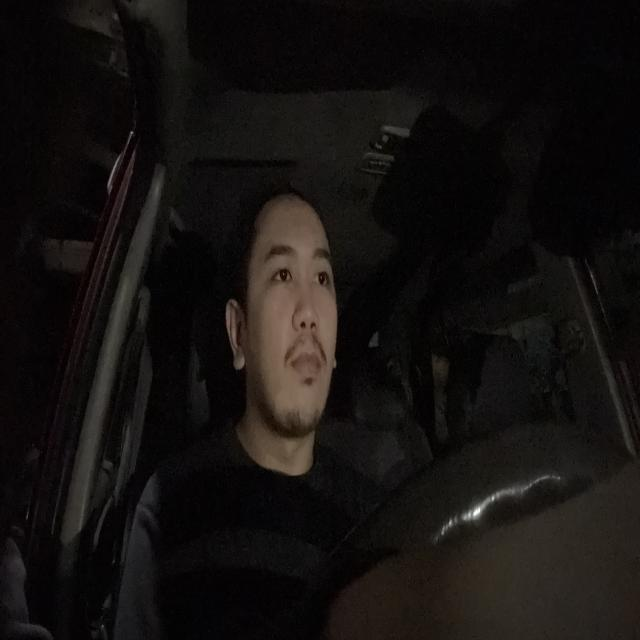open: (262, 242, 298, 295), (312, 245, 332, 295)
